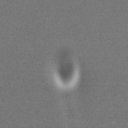normal: (57, 91, 89, 128)
